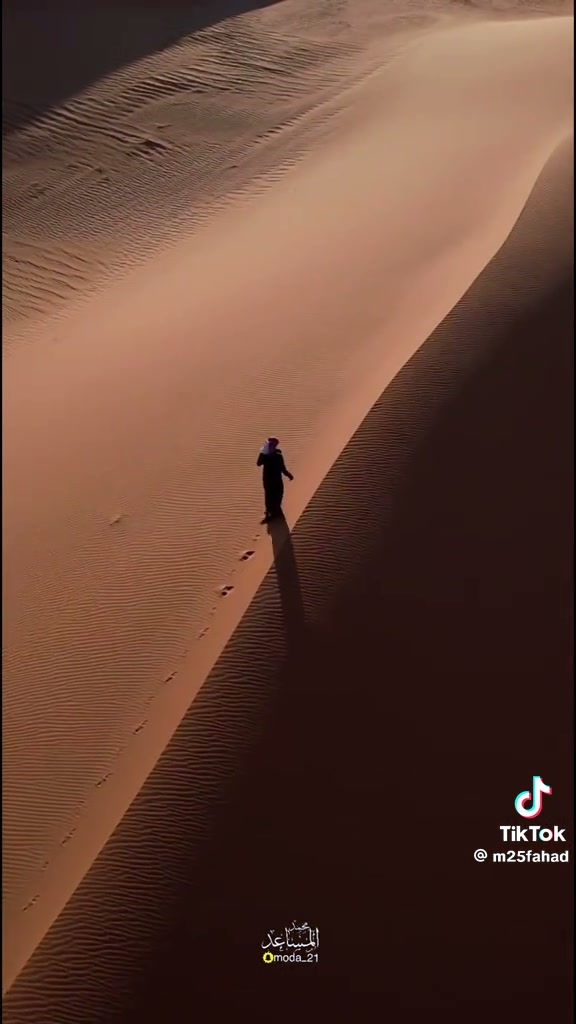human_foot_print: (218, 578, 260, 602), (125, 708, 158, 731), (153, 663, 194, 681), (235, 542, 258, 568), (198, 616, 222, 634)
